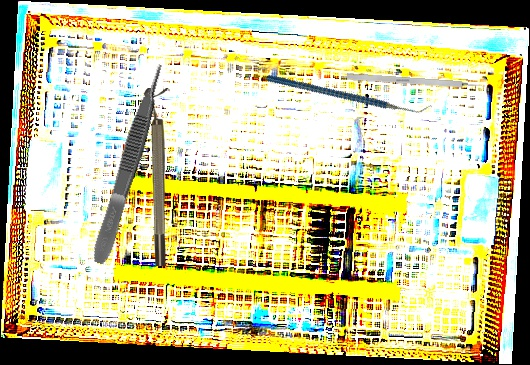Chopper: (265, 22, 433, 163)
Fixation Ring: (144, 88, 169, 266)
Hook Surgical: (346, 73, 489, 90)
Tissue Forceps: (87, 61, 173, 267)
